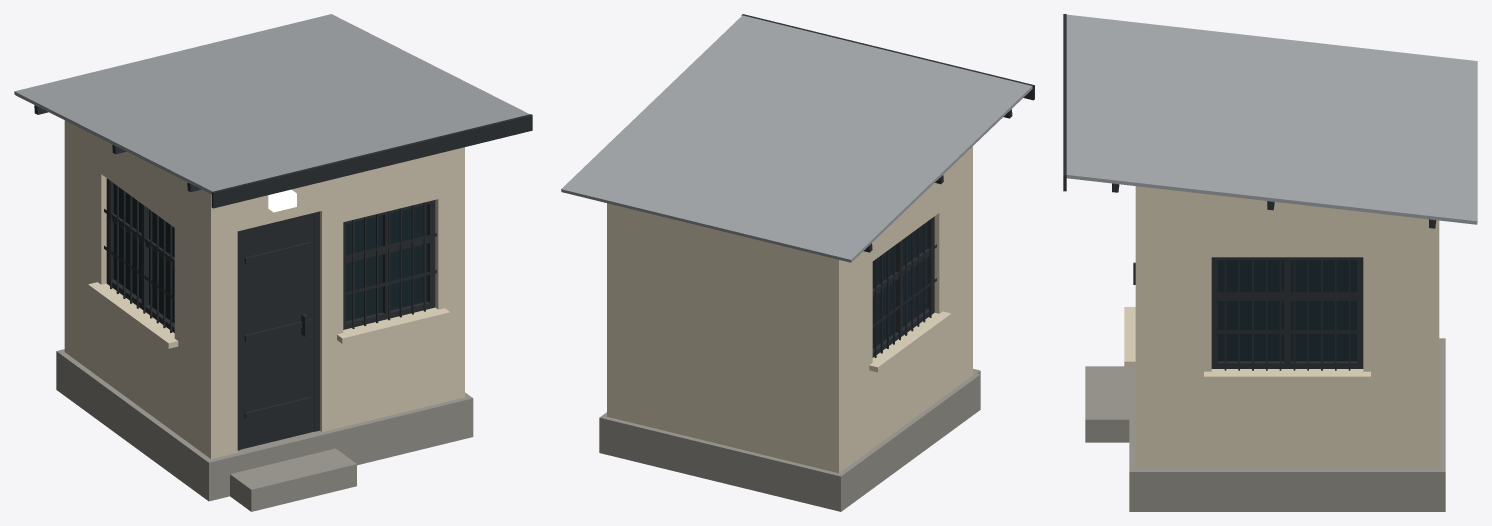
File: security_cabin.glb
3 renders of one model, left to right at view 1: azimuth 30°, elevation 25°; view 2: azimuth 150°, elevation 25°; view 3: azimuth 270°, elevation 25°, orthographic. The views are drawn at different scales.
Parts seen in each view (by area): view 1: security_cabin; view 2: security_cabin; view 3: security_cabin.
Boxes of the visible parts, box(x1,y1,x2,y2) form: security_cabin: box(14, 14, 532, 511); security_cabin: box(561, 14, 1034, 511); security_cabin: box(1063, 14, 1477, 511).
Size of the model in its own units: 3.02 by 3.06 by 3.28.
